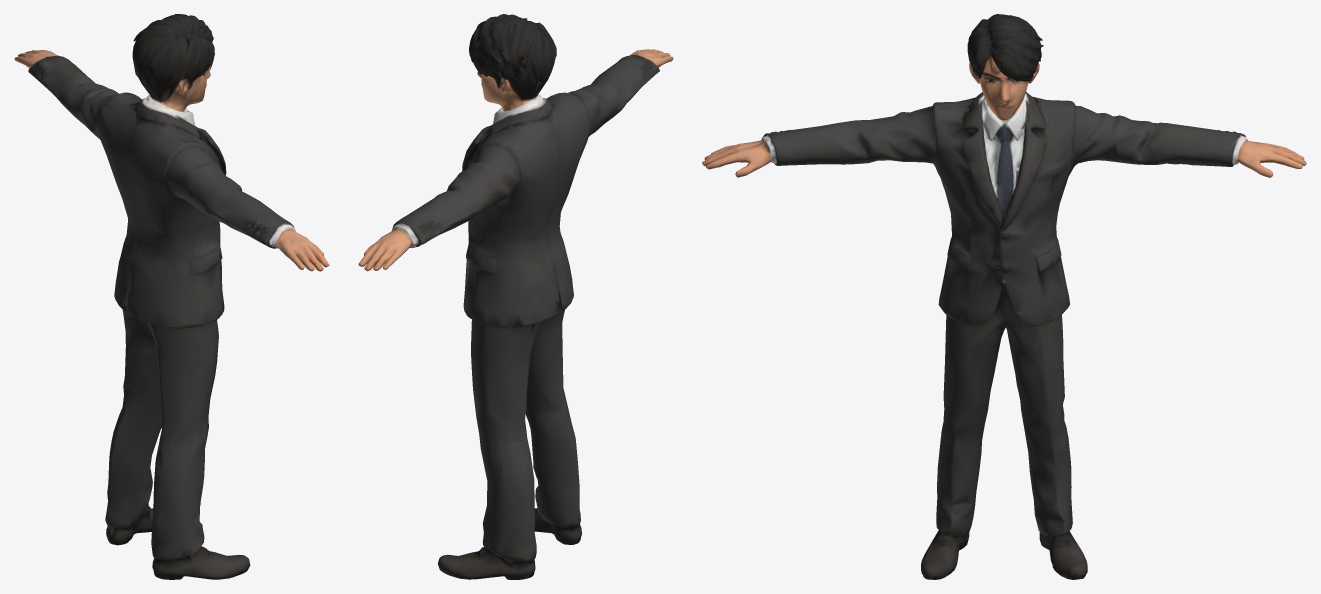
Rendered from suit.glb.
3 views of the same model, side by side, from view 1: azimuth 30°, elevation 25°; view 2: azimuth 150°, elevation 25°; view 3: azimuth 270°, elevation 25° (orthographic). The views are drawn at different scales.
Parts seen in each view (by area): view 1: tripo_node_6563dfb7-594c-4c46-9012-0b29a2badc20; view 2: tripo_node_6563dfb7-594c-4c46-9012-0b29a2badc20; view 3: tripo_node_6563dfb7-594c-4c46-9012-0b29a2badc20.
Part boxes in pixels (x1=…): tripo_node_6563dfb7-594c-4c46-9012-0b29a2badc20: x1=14, y1=14, x2=329, y2=579; tripo_node_6563dfb7-594c-4c46-9012-0b29a2badc20: x1=358, y1=14, x2=673, y2=579; tripo_node_6563dfb7-594c-4c46-9012-0b29a2badc20: x1=702, y1=14, x2=1306, y2=579.
Bounding box in the file's own units: 0.183 × 0.9979 × 0.9995.
Materials: 1 (1 with a texture image).
